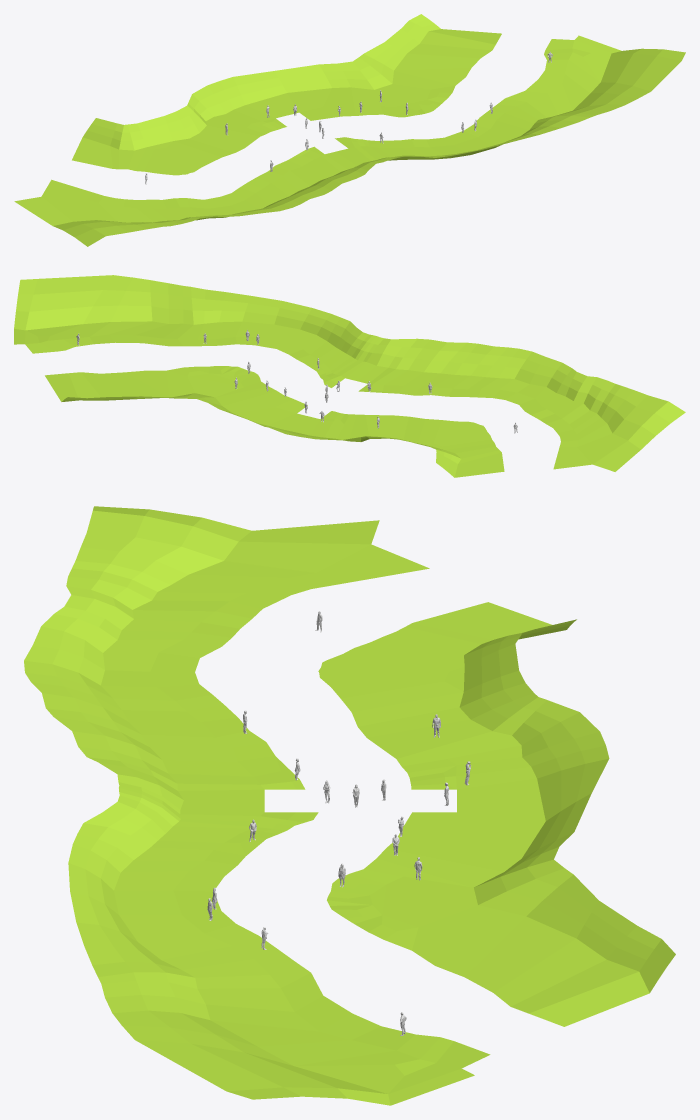
File: rio_comum.fbx
3 views of the same model, one above another, from view 1: azimuth 30°, elevation 25°; view 2: azimuth 150°, elevation 25°; view 3: azimuth 270°, elevation 25° (orthographic). The views are drawn at different scales.
Visible parts, largest first — view 1: terreno base; view 2: terreno base; view 3: terreno base.
Boxes of the visible parts, x1=… form: terreno base: x1=14, y1=14, x2=685, y2=246; terreno base: x1=14, y1=275, x2=685, y2=477; terreno base: x1=24, y1=506, x2=675, y2=1105.
Bounding box in the file's own units: 10819 × 324 × 4875.
